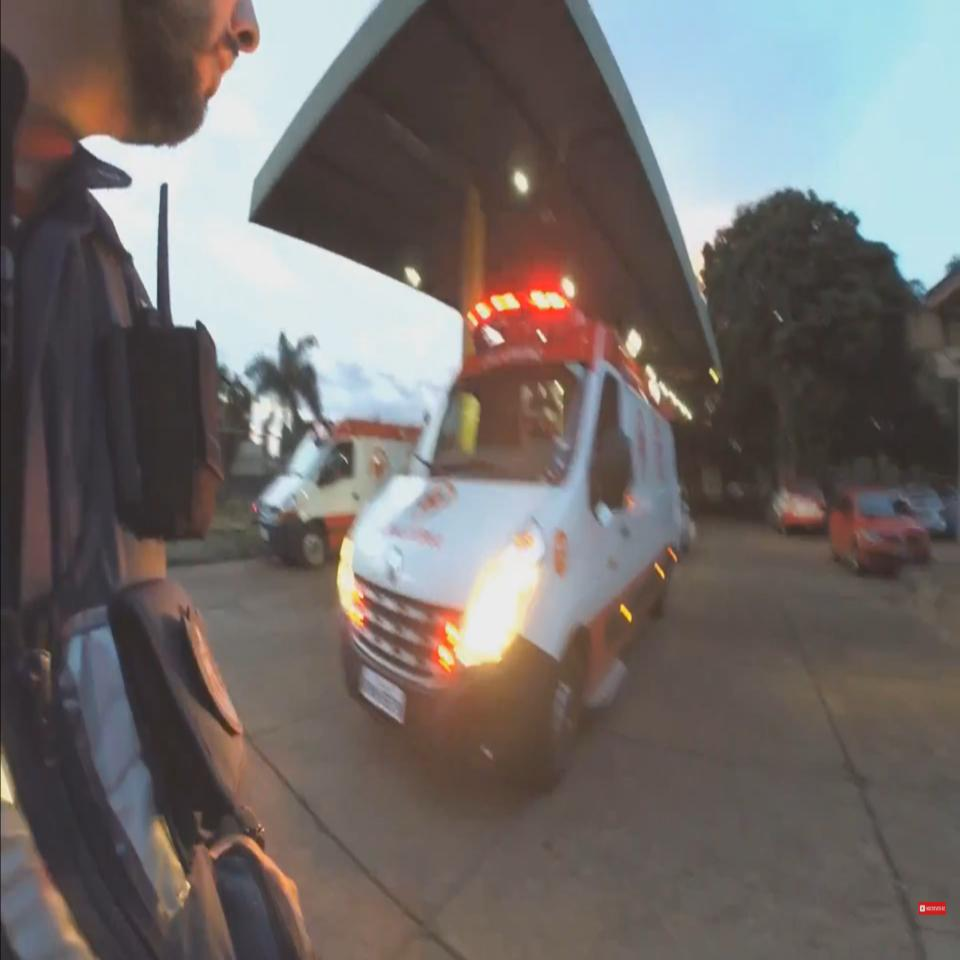bombeiro: (338, 286, 686, 792), (254, 412, 421, 577)
